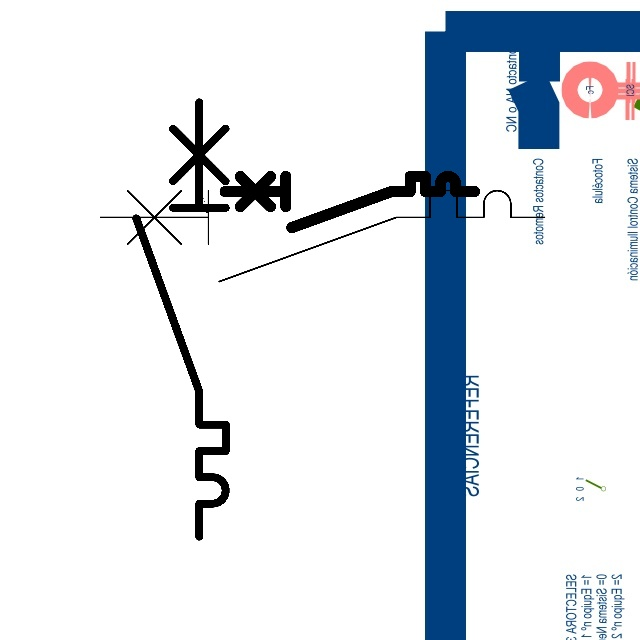interruptor_termomagnetico: (89, 179, 556, 293), (125, 91, 237, 548), (218, 170, 481, 234)
